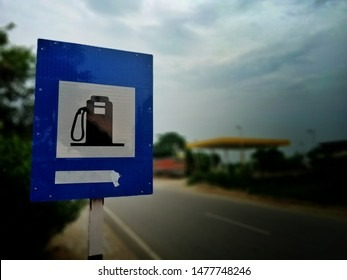fuel-station: (35, 39, 153, 196)
